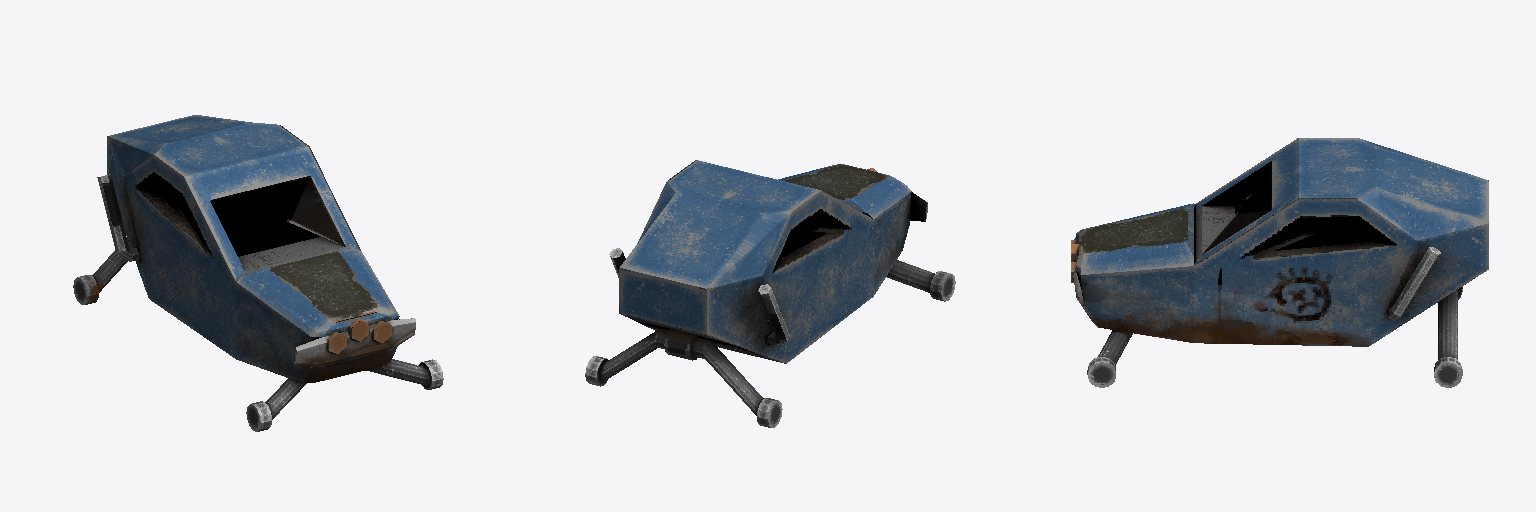
3 renders of one model, left to right at view 1: azimuth 30°, elevation 25°; view 2: azimuth 150°, elevation 25°; view 3: azimuth 270°, elevation 25°, orthographic.
Visible parts, largest first — view 1: Cube; view 2: Cube; view 3: Cube.
Boxes of the visible parts, <box> form: Cube: <box>73,115,443,431</box>; Cube: <box>585,160,955,427</box>; Cube: <box>1071,138,1488,387</box>.
Size of the model in its own units: 2.91 by 2.67 by 5.77.
1 materials, 1 textured.